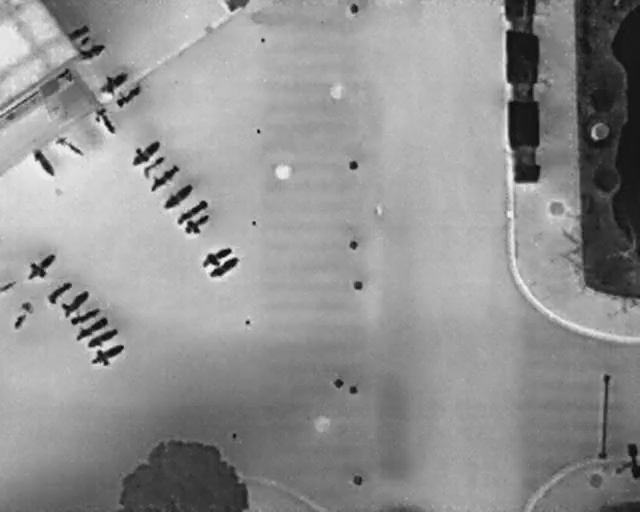Bicycle: (21, 246, 62, 286), (85, 338, 130, 373), (94, 64, 134, 101), (124, 134, 164, 170), (55, 283, 93, 320), (144, 160, 184, 195), (70, 312, 112, 345), (172, 195, 212, 228), (51, 129, 87, 163), (179, 208, 216, 241), (89, 104, 122, 141), (197, 241, 235, 273), (160, 181, 197, 213), (83, 323, 122, 353), (28, 143, 59, 180), (44, 275, 77, 307), (7, 299, 37, 333), (65, 303, 104, 329), (207, 253, 241, 282), (137, 151, 170, 180), (112, 82, 145, 111), (72, 40, 108, 65), (63, 21, 92, 44), (0, 278, 18, 293)
